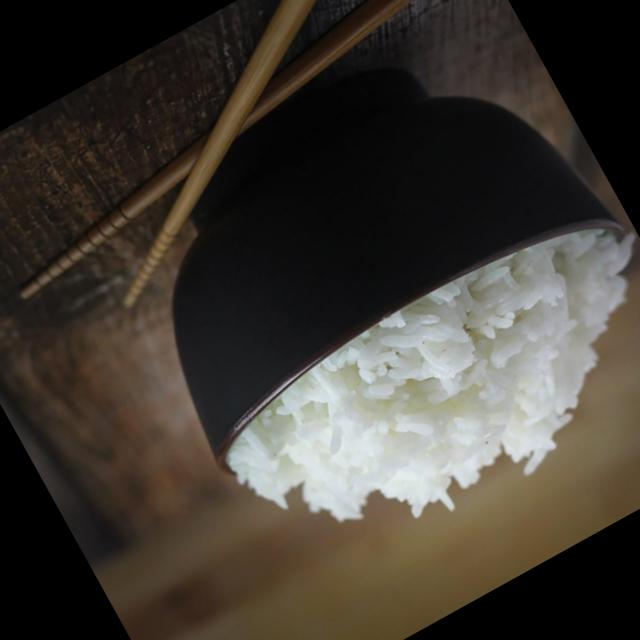rice: (231, 225, 633, 516)
